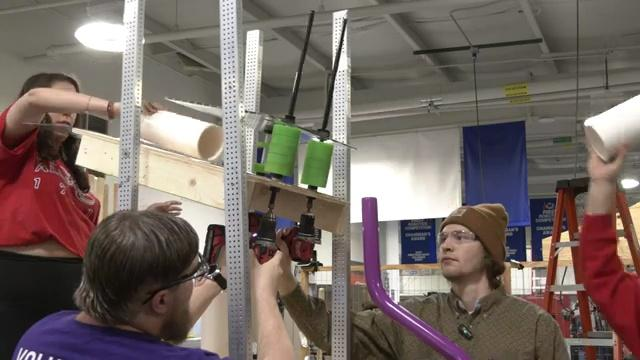CORAL: (141, 111, 224, 160), (582, 92, 638, 162)
